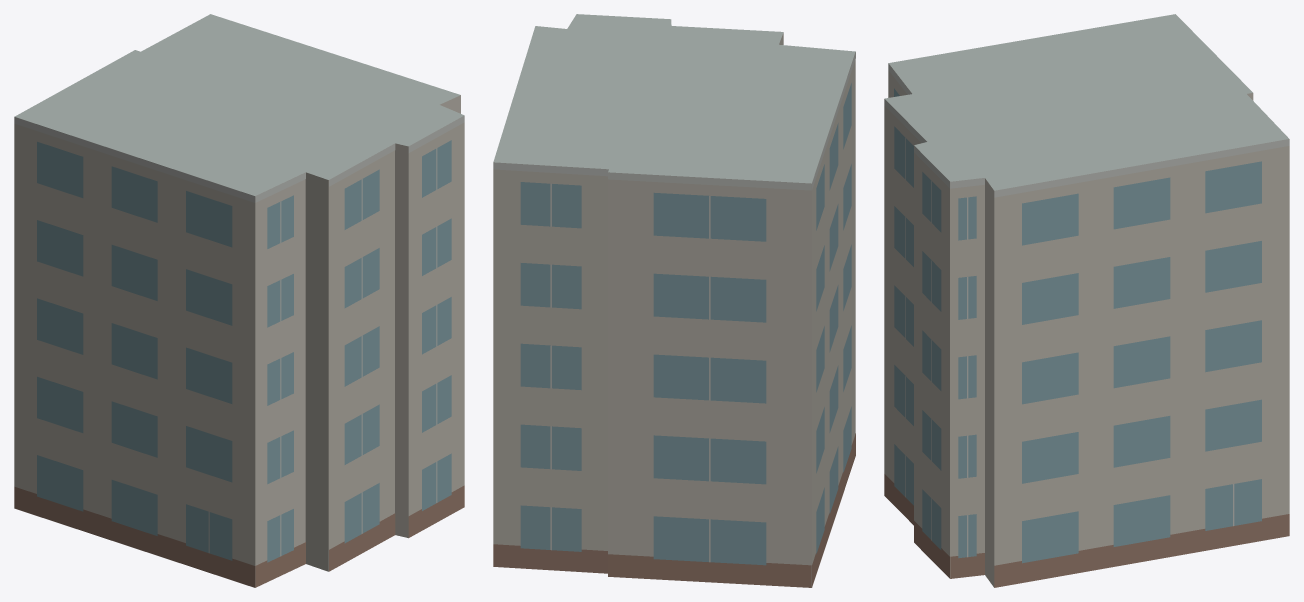
Rendered from survey-upis-33040169.glb.
3 views of the same model, side by side, from view 1: azimuth 30°, elevation 25°; view 2: azimuth 150°, elevation 25°; view 3: azimuth 270°, elevation 25° (orthographic). The views are drawn at different scales.
Parts seen in each view (by area): view 1: survey-upis-33040169.tmp; view 2: survey-upis-33040169.tmp; view 3: survey-upis-33040169.tmp.
Part boxes in pixels (x1,y1,x2,y2): survey-upis-33040169.tmp: (14,14,464,587); survey-upis-33040169.tmp: (493,14,855,587); survey-upis-33040169.tmp: (884,14,1289,587).
Size of the model in its own units: 13.32 by 13.95 by 12.91.
